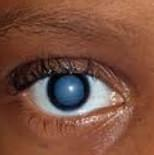eye: (48, 74, 90, 112)
